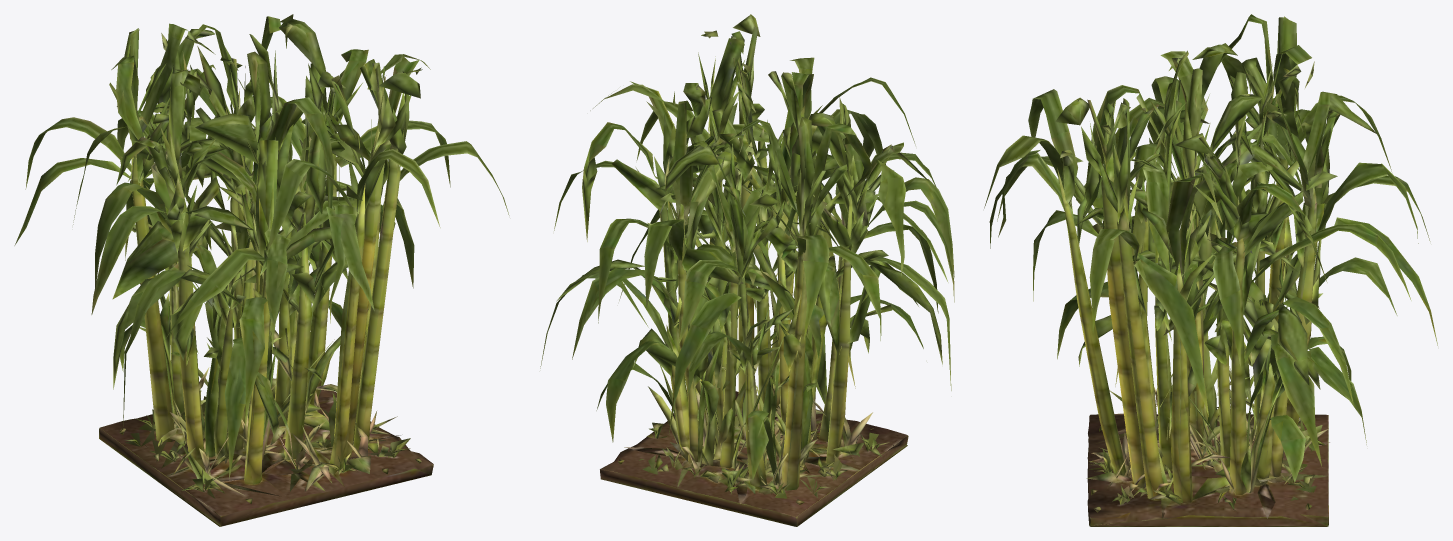
Rendered from cane-tile-phone.glb.
3 views of the same model, side by side, from view 1: azimuth 30°, elevation 25°; view 2: azimuth 150°, elevation 25°; view 3: azimuth 270°, elevation 25° (orthographic). The views are drawn at different scales.
Size of the model in its own units: 0.8984 by 0.9185 by 0.9082.
Materials: 1 (1 with a texture image).
